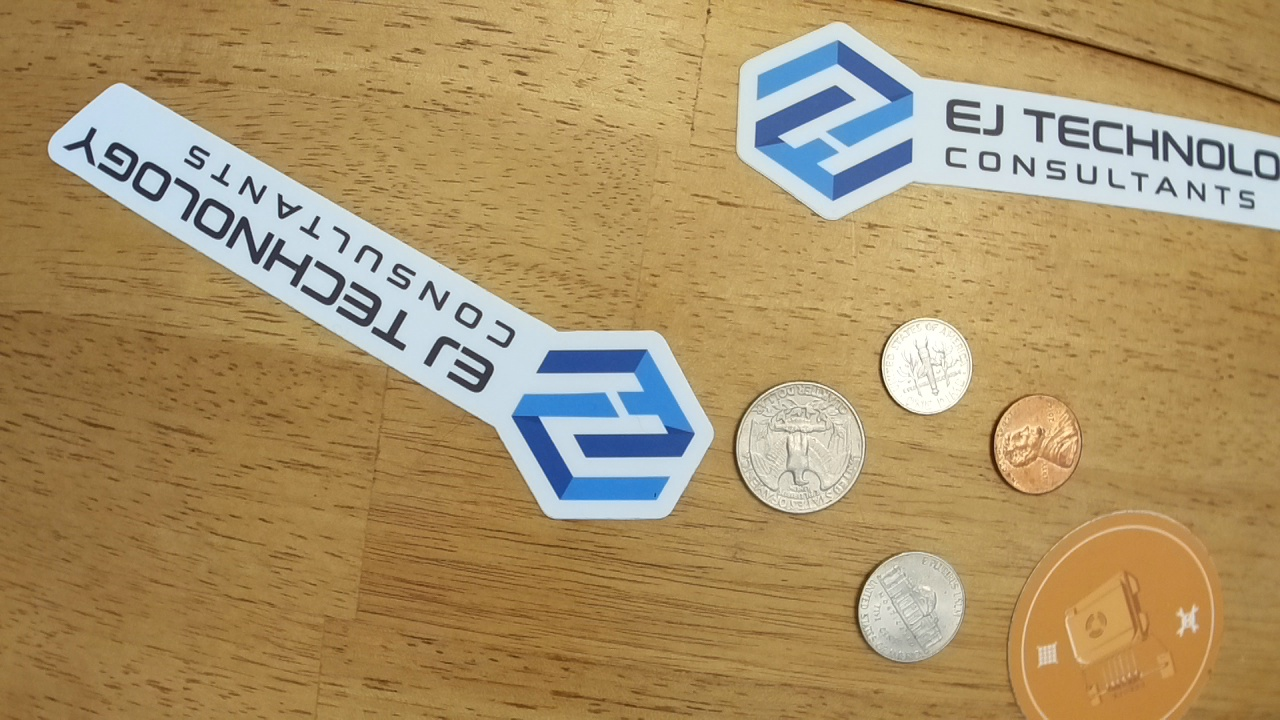dime: (878, 314, 974, 416)
nickel: (852, 545, 968, 663)
penny: (986, 390, 1084, 498)
quarter: (733, 377, 865, 515)
